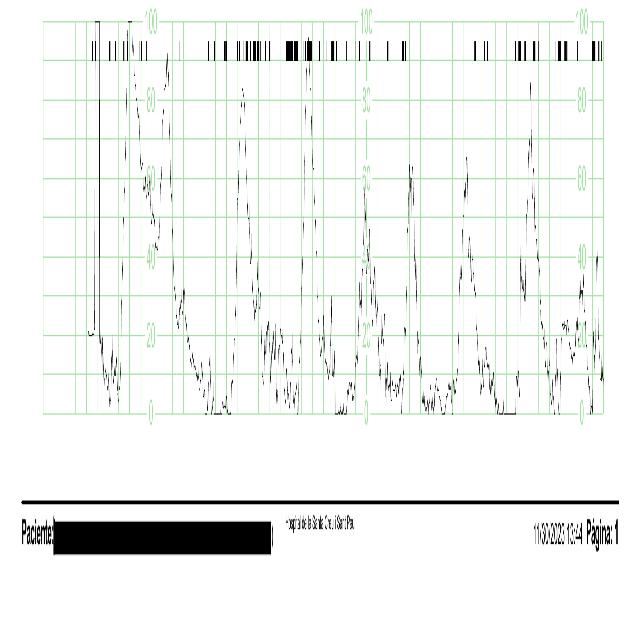contraction: (516, 83, 552, 419), (118, 19, 146, 382), (299, 48, 323, 415), (449, 158, 482, 413), (234, 89, 258, 403), (354, 189, 382, 415), (158, 39, 178, 340), (403, 164, 426, 413), (85, 21, 102, 348), (560, 278, 589, 413), (592, 253, 603, 417)
